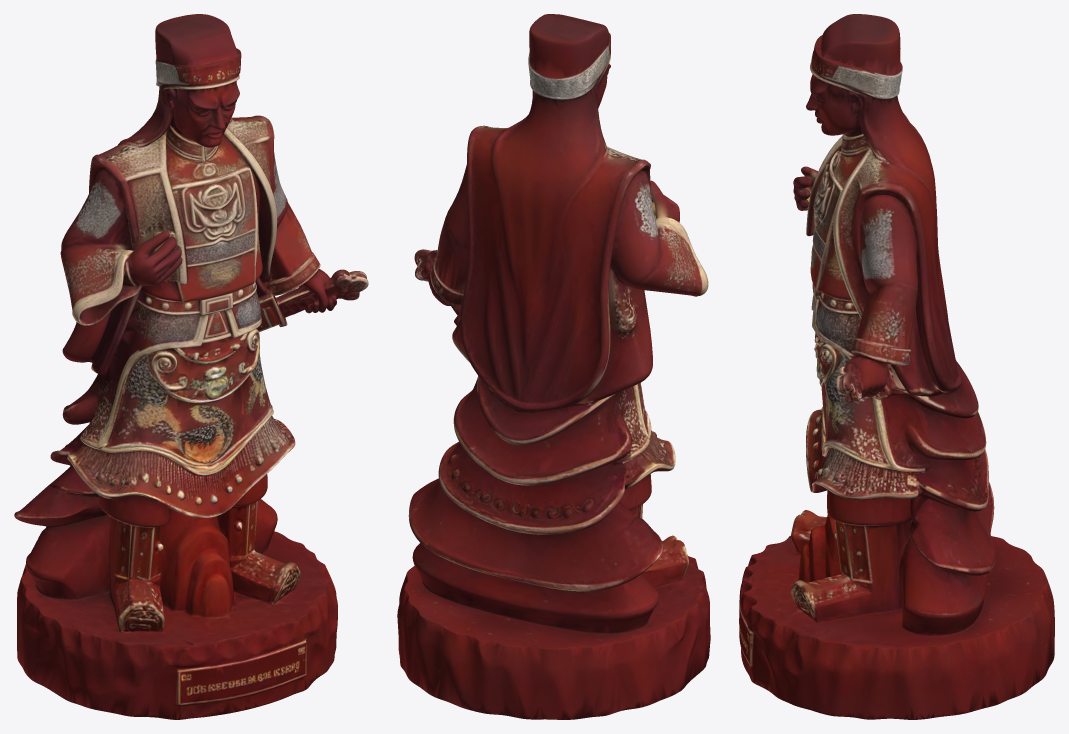
File: tuong3d5.glb
The picture shows the model from 3 angles, left to right: view 1: azimuth 30°, elevation 25°; view 2: azimuth 150°, elevation 25°; view 3: azimuth 270°, elevation 25°; orthographic projection. The views are drawn at different scales.
Parts seen in each view (by area): view 1: node_0; view 2: node_0; view 3: node_0.
Boxes of the visible parts, left/top/right/bottom form: node_0: left=14, top=14, right=368, bottom=719; node_0: left=397, top=14, right=710, bottom=719; node_0: left=739, top=14, right=1054, bottom=719.
Bounding box in the file's own units: 0.539 × 1.07 × 0.4897.
Materials: 1 (1 with a texture image).
